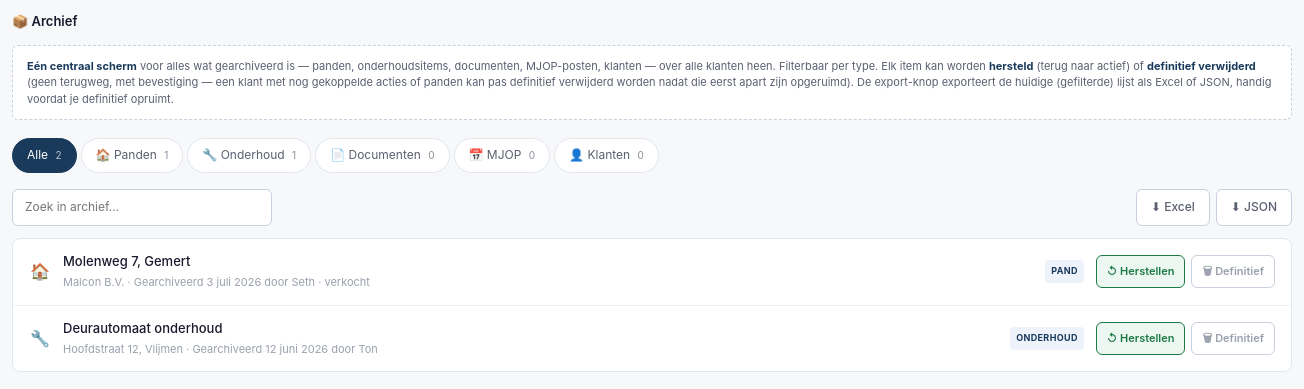
Scenario: ArchiefPage › filtert op zoekterm
Type "deurautomaat" into the field labelled "Zoek in archief". click: [142, 208]
box: [12,189,272,226]
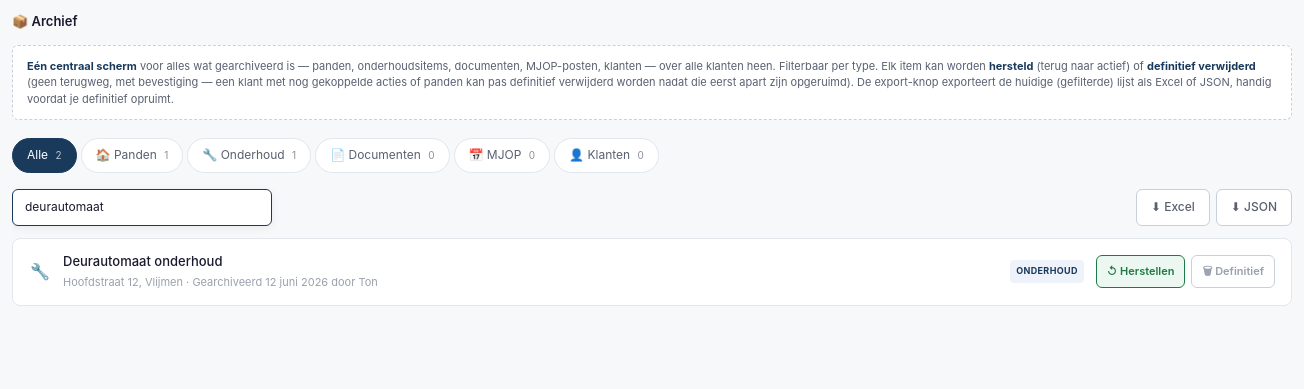
Expected: the text "Deurautomaat onderhoud" is shown, [63,253,222,269]
Expected: the text "Molenweg 7, Gemert" is gone
